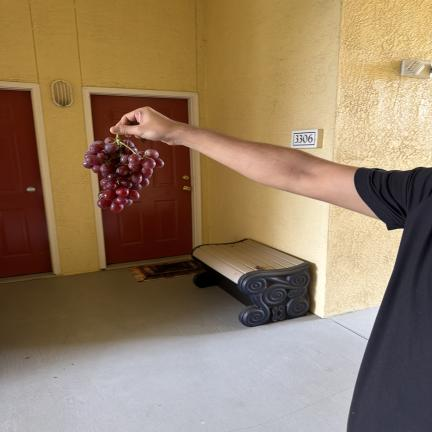grape_cluster: (82, 134, 164, 213), (228, 386, 354, 432)
